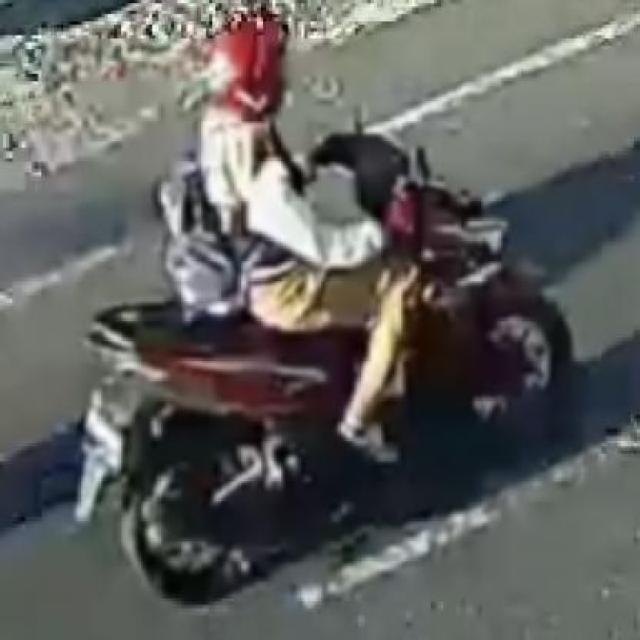helmet: (171, 9, 283, 134)
motorcycle: (72, 3, 597, 618)
